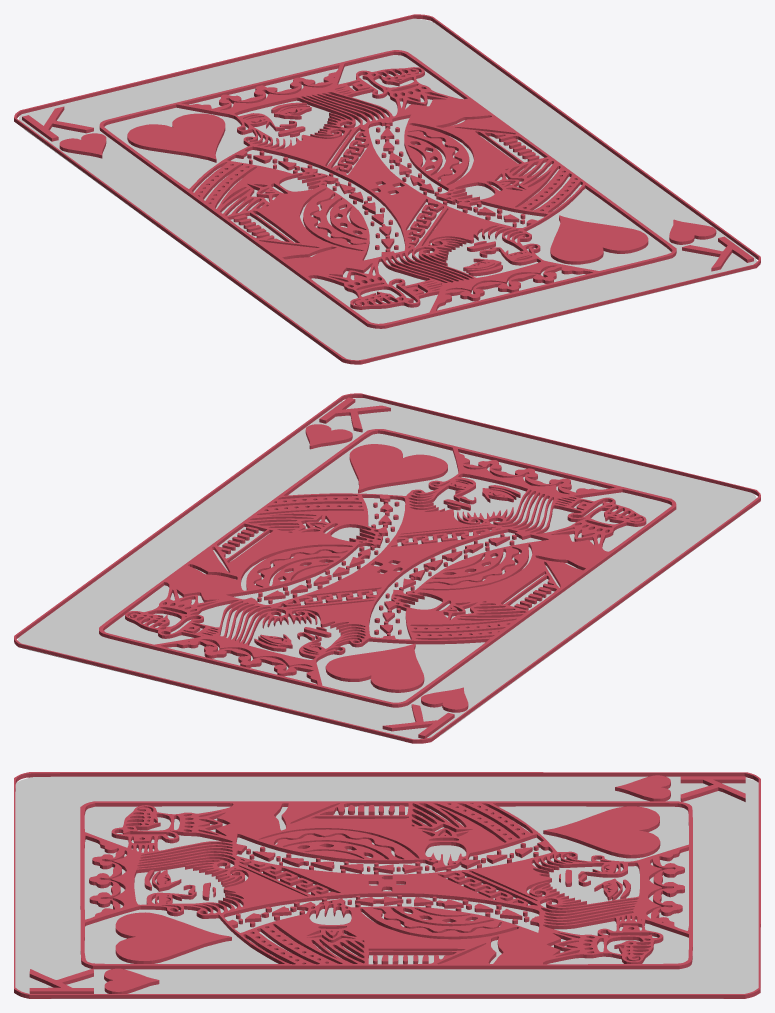
Rendered from 13_hearts.glb.
3 renders of one model, top to bottom at view 1: azimuth 30°, elevation 25°; view 2: azimuth 150°, elevation 25°; view 3: azimuth 270°, elevation 25°, orthographic. The views are drawn at different scales.
Parts seen in each view (by area): view 1: Mesh_Mesh_head_geo.001_lambert2SG.001; view 2: Mesh_Mesh_head_geo.001_lambert2SG.001; view 3: Mesh_Mesh_head_geo.001_lambert2SG.001.
Part boxes in pixels (x1,y1,x2,y2): Mesh_Mesh_head_geo.001_lambert2SG.001: (14, 14, 760, 364); Mesh_Mesh_head_geo.001_lambert2SG.001: (14, 393, 760, 743); Mesh_Mesh_head_geo.001_lambert2SG.001: (14, 772, 760, 998).
Bounding box in the file's own units: 1.2 × 0.01 × 1.7.
